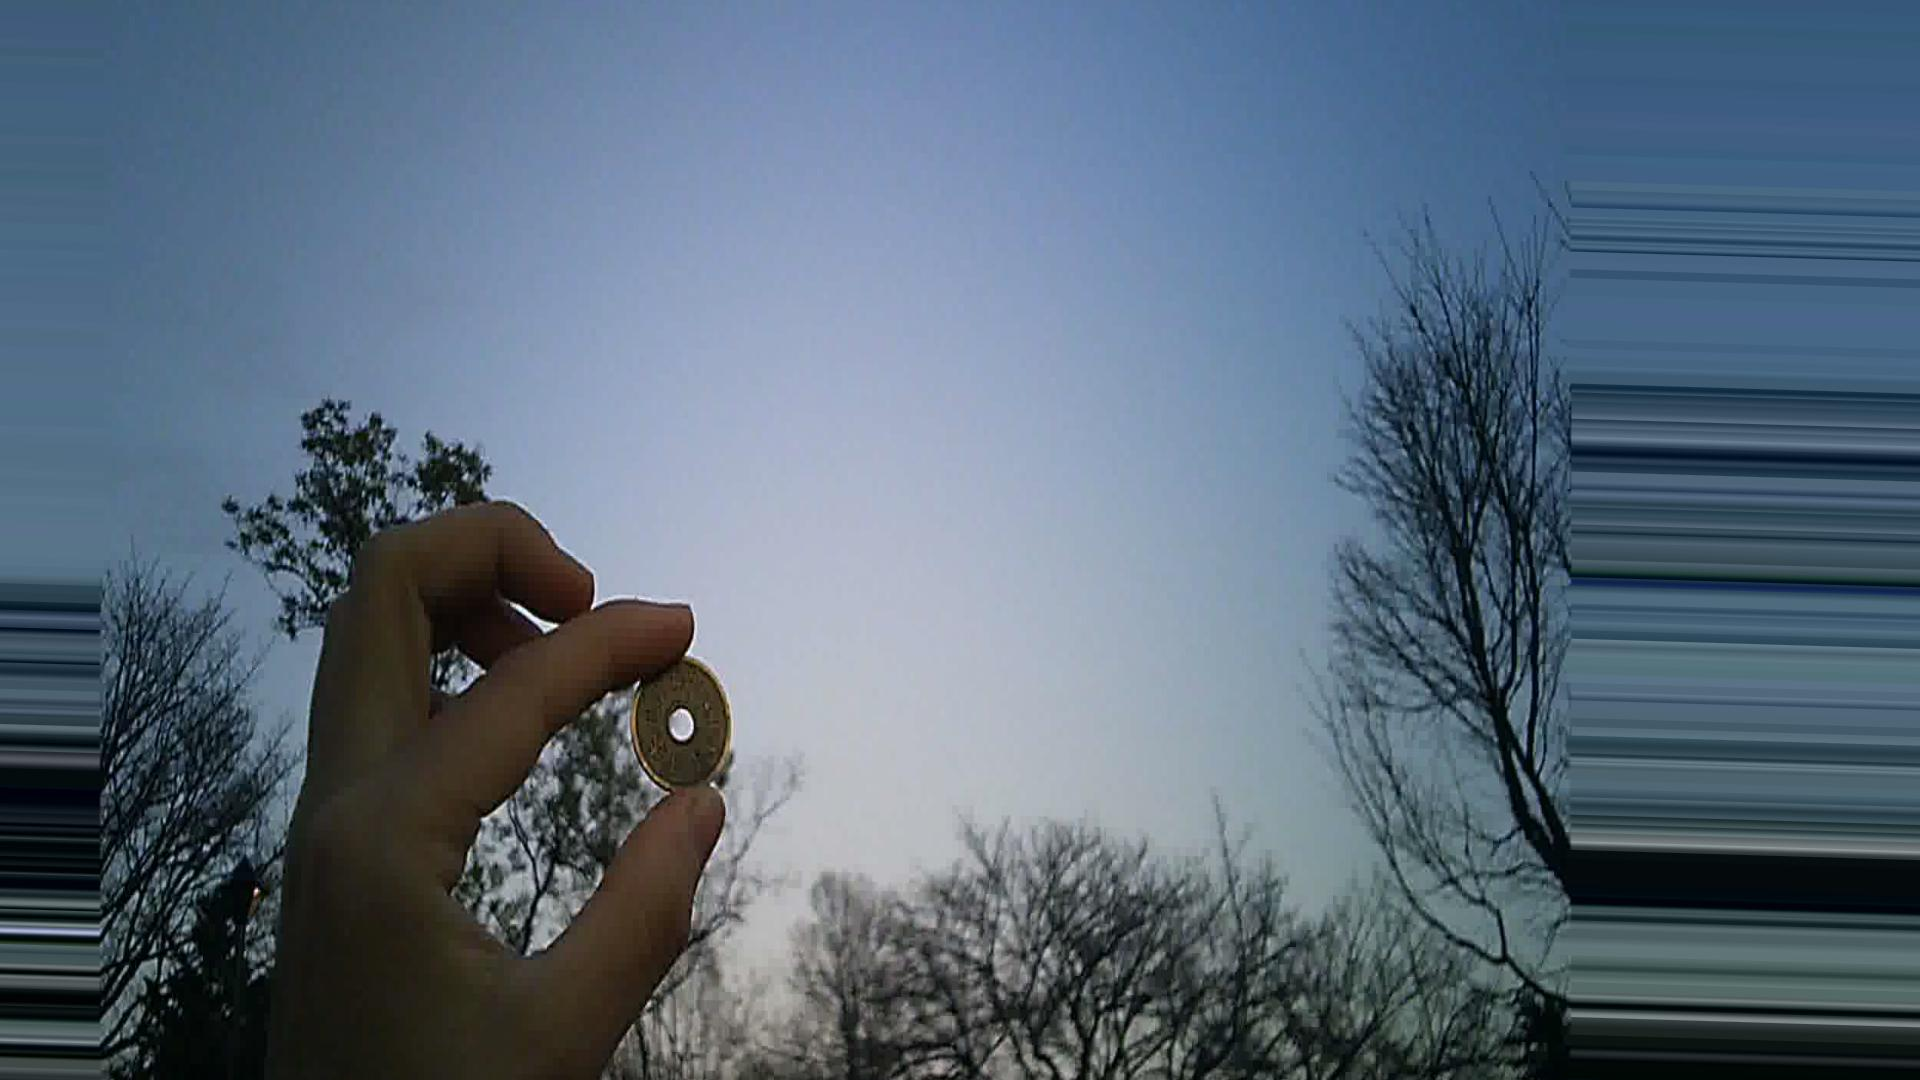5 Yen: (624, 657, 746, 799)
